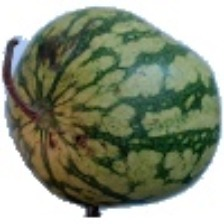watermelon: (58, 12, 207, 170)
